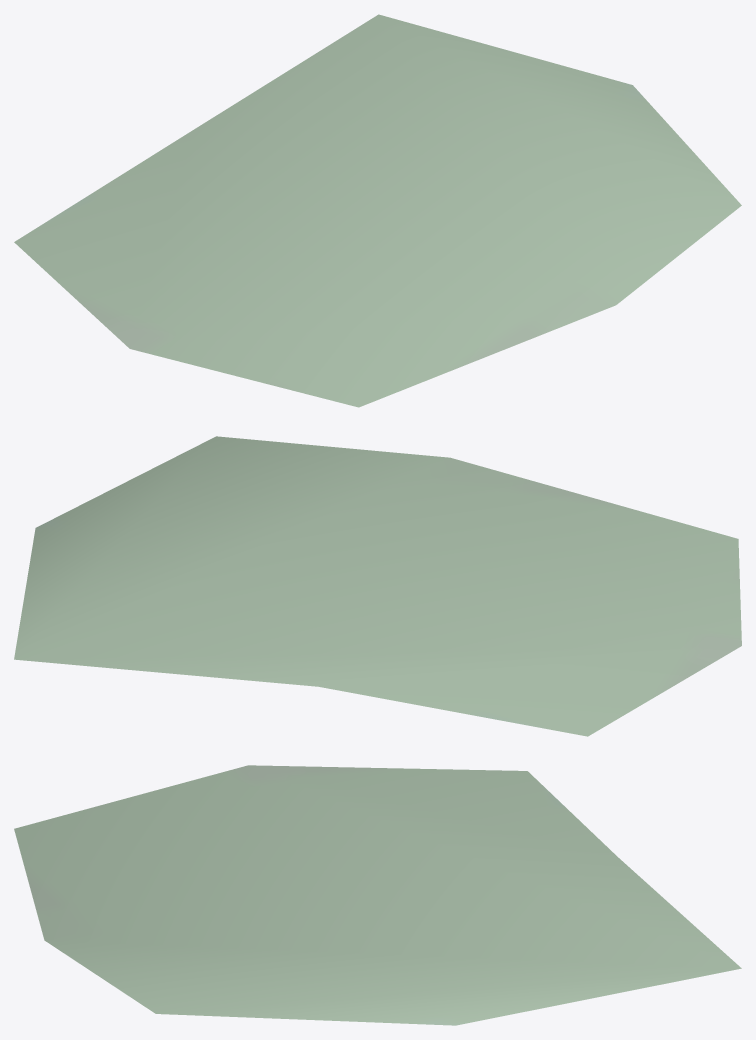
Rendered from TROLLHOLE02_HOLECAP16.fbx.
3 views of the same model, one above another, from view 1: azimuth 30°, elevation 25°; view 2: azimuth 150°, elevation 25°; view 3: azimuth 270°, elevation 25° (orthographic). The views are drawn at different scales.
Visible parts, largest first — view 1: TROLLHOLE02_HOLECAP16; view 2: TROLLHOLE02_HOLECAP16; view 3: TROLLHOLE02_HOLECAP16.
Boxes of the visible parts, x1,y1,x2,y2 form: TROLLHOLE02_HOLECAP16: (14, 14, 741, 407); TROLLHOLE02_HOLECAP16: (14, 436, 741, 736); TROLLHOLE02_HOLECAP16: (14, 765, 741, 1025).
Size of the model in its own units: 26163 by 1987 by 26348.
Materials: 1 (1 with a texture image).
